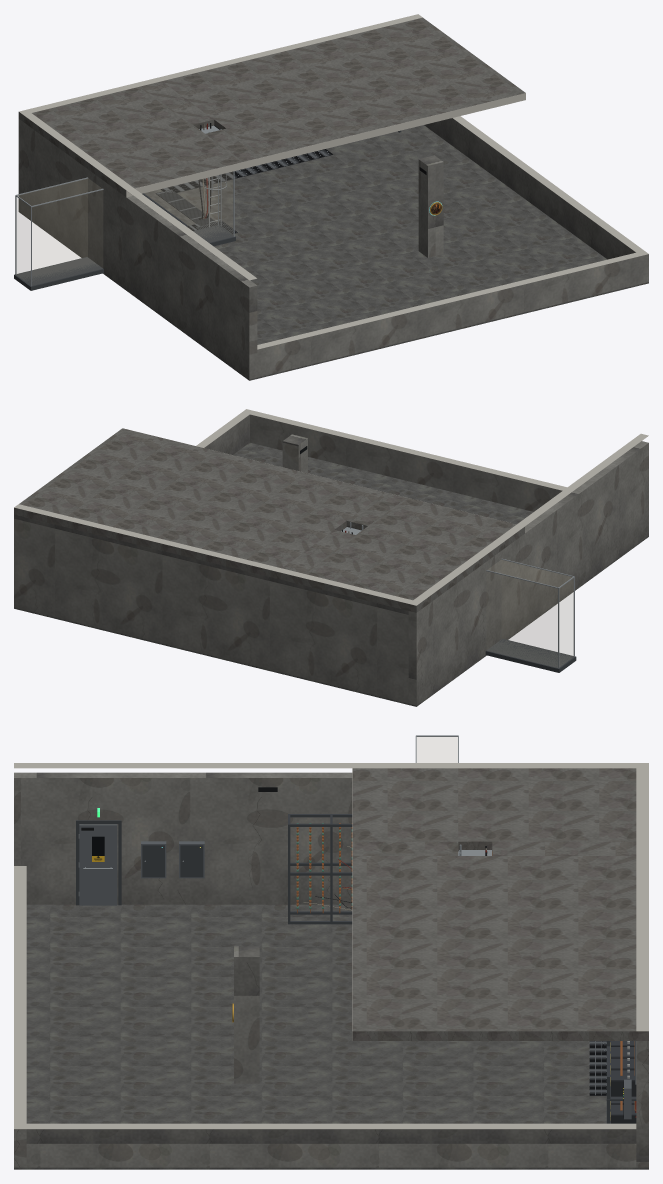
File: int-subsolo-central-energia_SUBSTITUIDO_2026-10-11.glb
3 renders of one model, top to bottom at view 1: azimuth 30°, elevation 25°; view 2: azimuth 150°, elevation 25°; view 3: azimuth 270°, elevation 25°, orthographic. The views are drawn at different scales.
Parts seen in each view (by area): view 1: piso, teto_b, parede_esquerda, teto_a, parede_frente_corte, distribuidor_redoma, parede_direita_corte, teto_corte, pilar, distribuidor_redoma_saia, parede_fundo_corte_topo, parede_frente_corte_topo (+7 smaller); view 2: parede_fundo, teto_b, parede_esquerda, teto_a, parede_frente_corte, distribuidor_redoma, piso, parede_fundo_corte_topo, parede_esquerda_corte_topo, parede_frente_corte_topo, distribuidor_redoma_saia, teto_c (+4 smaller); view 3: piso, teto_b, parede_esquerda, parede_direita_corte, teto_a, parede_direita_corte_topo, parede_esquerda_corte_topo, pilar, parede_frente_corte_topo, parede_fundo_corte_topo, porta_folha, teto_c (+10 smaller).
Part boxes in pixels (x1,y1,x2,y2): piso: (18, 125, 648, 380); teto_b: (162, 17, 525, 156); parede_esquerda: (18, 119, 257, 379); teto_a: (18, 86, 243, 196); parede_frente_corte: (257, 254, 648, 377); distribuidor_redoma: (17, 172, 232, 282); parede_direita_corte: (424, 118, 635, 259); teto_corte: (126, 93, 525, 197); pilar: (418, 155, 443, 257); distribuidor_redoma_saia: (14, 225, 235, 290); parede_fundo_corte_topo: (27, 14, 422, 112); parede_frente_corte_topo: (257, 250, 648, 349); parede_fundo: (14, 514, 408, 703); teto_b: (14, 428, 384, 578); parede_esquerda: (408, 441, 648, 705); teto_a: (298, 497, 524, 612); parede_frente_corte: (250, 414, 562, 511); distribuidor_redoma: (487, 560, 573, 667); piso: (14, 442, 648, 706); parede_fundo_corte_topo: (14, 504, 412, 603); parede_esquerda_corte_topo: (408, 433, 648, 605); parede_frente_corte_topo: (242, 409, 566, 490); distribuidor_redoma_saia: (485, 638, 576, 672); teto_c: (277, 530, 355, 583); piso: (14, 904, 648, 1169); teto_b: (352, 856, 648, 1040); parede_esquerda: (14, 772, 352, 904); parede_direita_corte: (26, 1129, 636, 1167); teto_a: (352, 768, 636, 851); parede_direita_corte_topo: (26, 1123, 636, 1129); parede_esquerda_corte_topo: (14, 763, 648, 768); pilar: (234, 946, 259, 1083); parede_frente_corte_topo: (14, 866, 26, 1129); parede_fundo_corte_topo: (636, 768, 648, 1031); porta_folha: (79, 824, 117, 905); teto_c: (492, 841, 636, 855).
Size of the model in its own units: 17.75 by 3.6 by 15.
28 materials, 6 textured.
